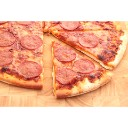pepperonipizza: (1, 20, 128, 96)
